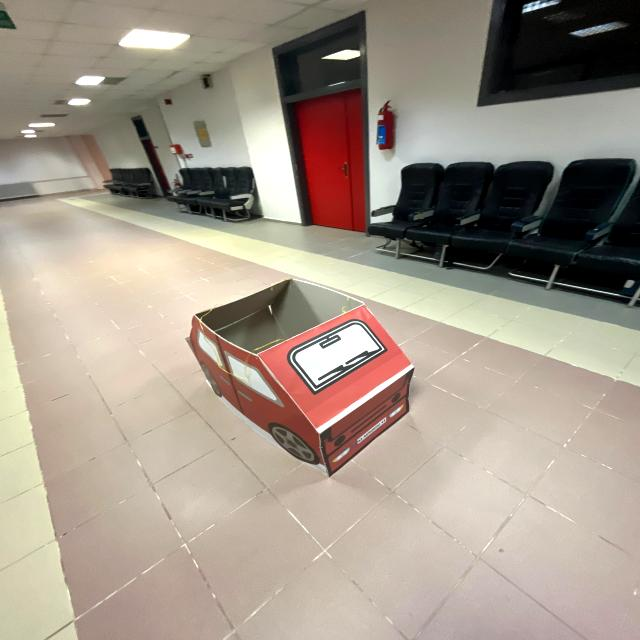red_car: (168, 266, 447, 493)
